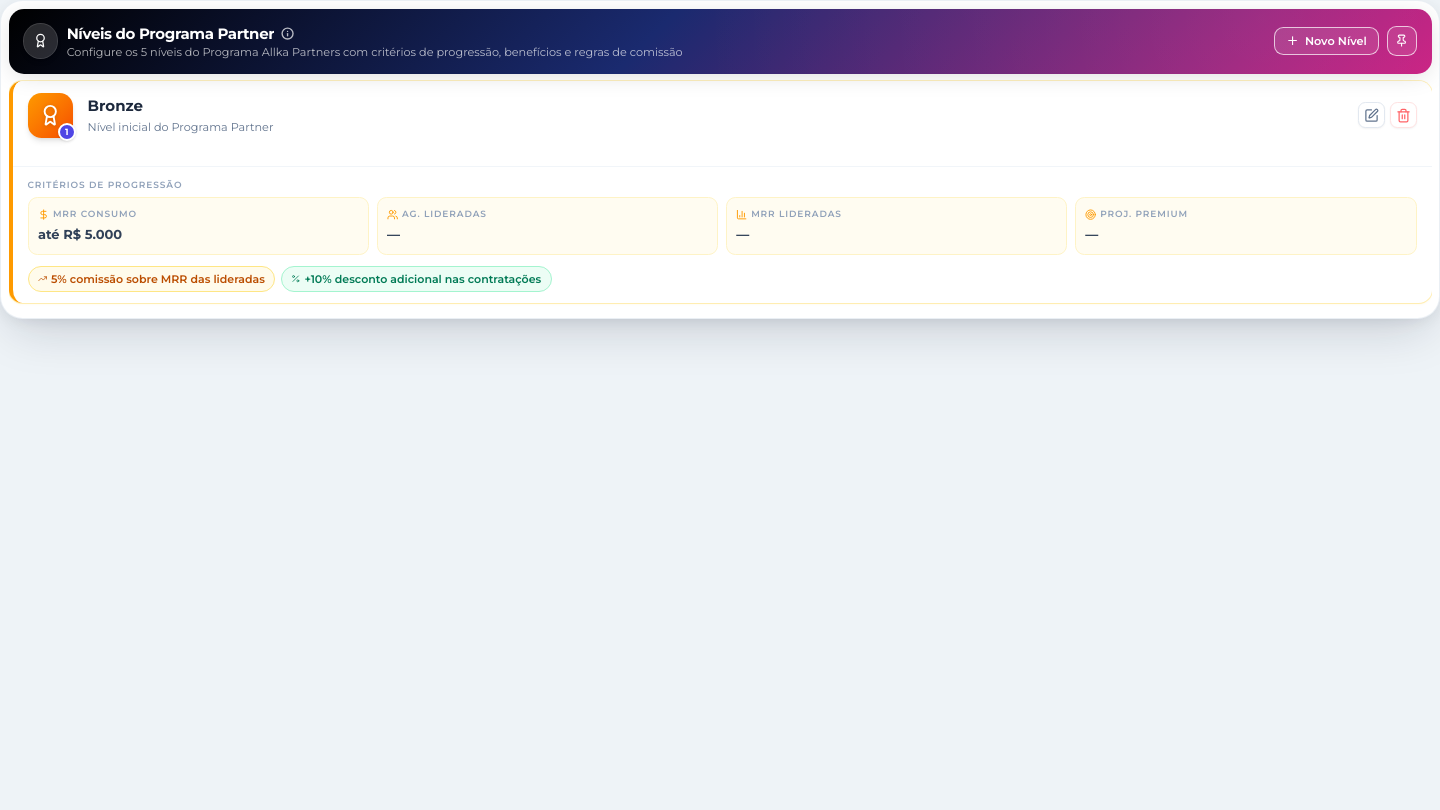
Admin > Níveis — exclusão de nível (confirmação dupla) › com permissão sistema/delete: abre a 1ª etapa com o nome correto, sem chamar a API
Click the button named "excluir nível" at x=1403, y=115, box [1390,102,1417,128]
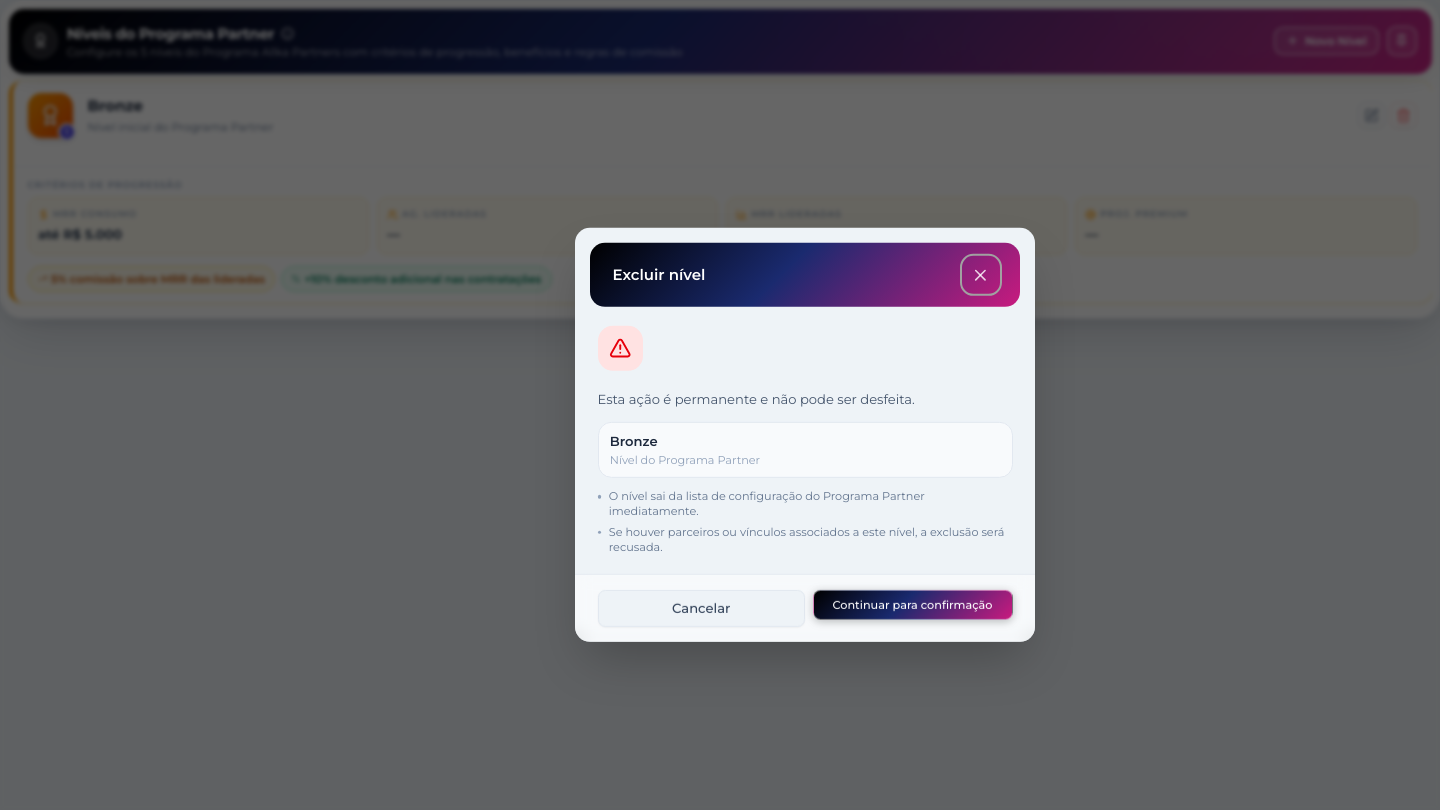
Expected: the heading "Bronze" is shown, [88,95,143,118]
Result: the text "Esta ação é permanente e não pode ser desfeita." is shown at [598,391,915,407]
